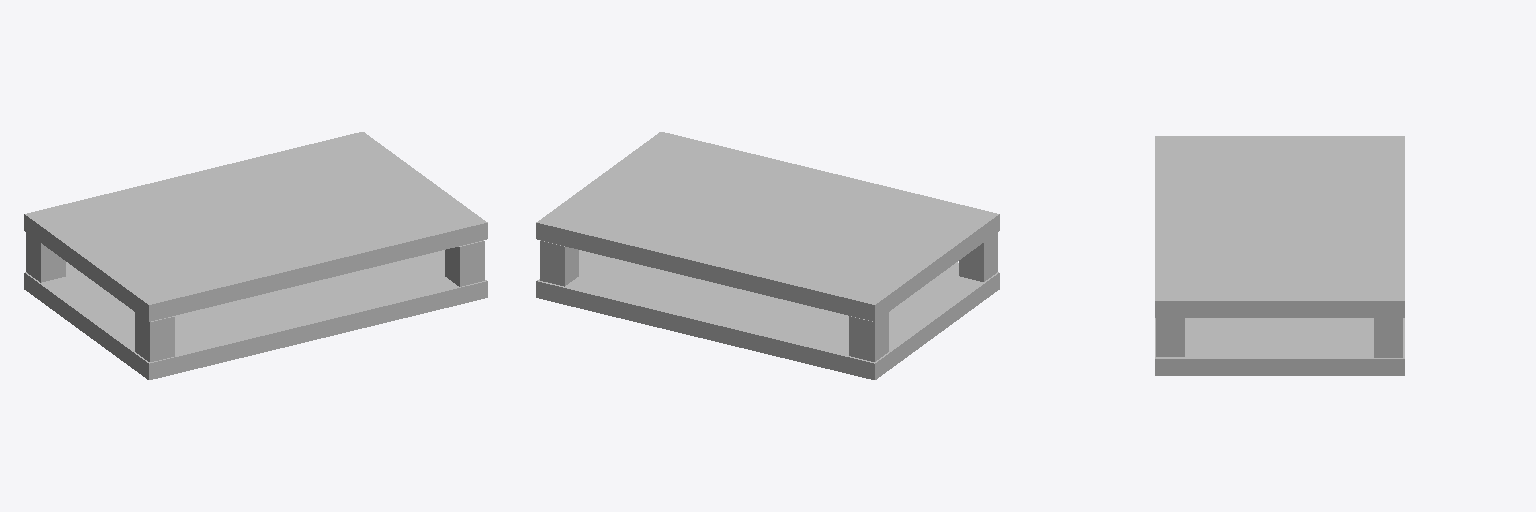
File: BlowerBase.obj
3 views of the same model, side by side, from view 1: azimuth 30°, elevation 25°; view 2: azimuth 150°, elevation 25°; view 3: azimuth 270°, elevation 25° (orthographic).
Visible parts, largest first — view 1: 立方体.004, 立方体.002, 立方体.005, 立方体.006, 立方体.003; view 2: 立方体.004, 立方体.002, 立方体.003, 立方体.007, 立方体.005; view 3: 立方体.004, 立方体.002, 立方体.007, 立方体.006.
Boxes of the visible parts, <box> form: 立方体.004: <box>24,132,487,321</box>; 立方体.002: <box>24,250,487,379</box>; 立方体.005: <box>135,312,174,361</box>; 立方体.006: <box>445,240,484,286</box>; 立方体.003: <box>26,232,65,282</box>; 立方体.004: <box>536,132,999,321</box>; 立方体.002: <box>536,250,999,379</box>; 立方体.003: <box>849,312,888,361</box>; 立方体.007: <box>540,240,578,286</box>; 立方体.005: <box>959,232,997,281</box>; 立方体.004: <box>1155,136,1404,317</box>; 立方体.002: <box>1155,318,1404,375</box>; 立方体.007: <box>1374,318,1402,357</box>; 立方体.006: <box>1156,318,1184,356</box>.
Size of the model in its own units: 3.36 by 0.7148 by 2.14.